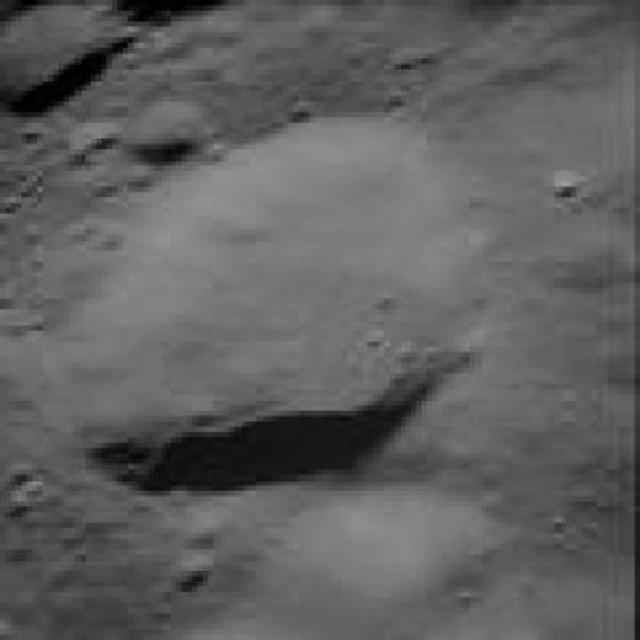crater: (37, 119, 491, 490), (0, 0, 161, 115)
